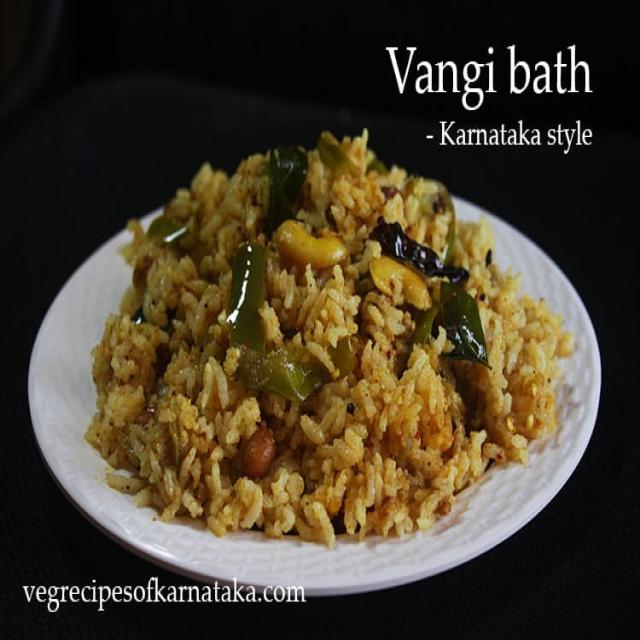vangi bath: (80, 119, 582, 572)
